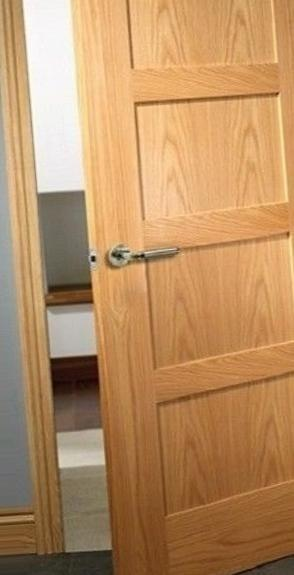door: (76, 0, 294, 575)
